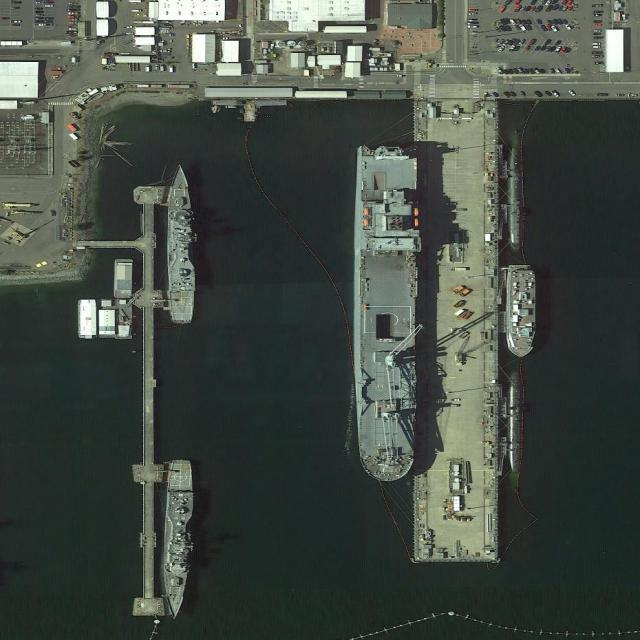Dock: (411, 99, 498, 564), (134, 186, 164, 618)
Frigate: (162, 459, 191, 620), (168, 162, 194, 323)
RoRo: (350, 143, 422, 483)
Submarine: (507, 367, 524, 478), (509, 149, 518, 248)
